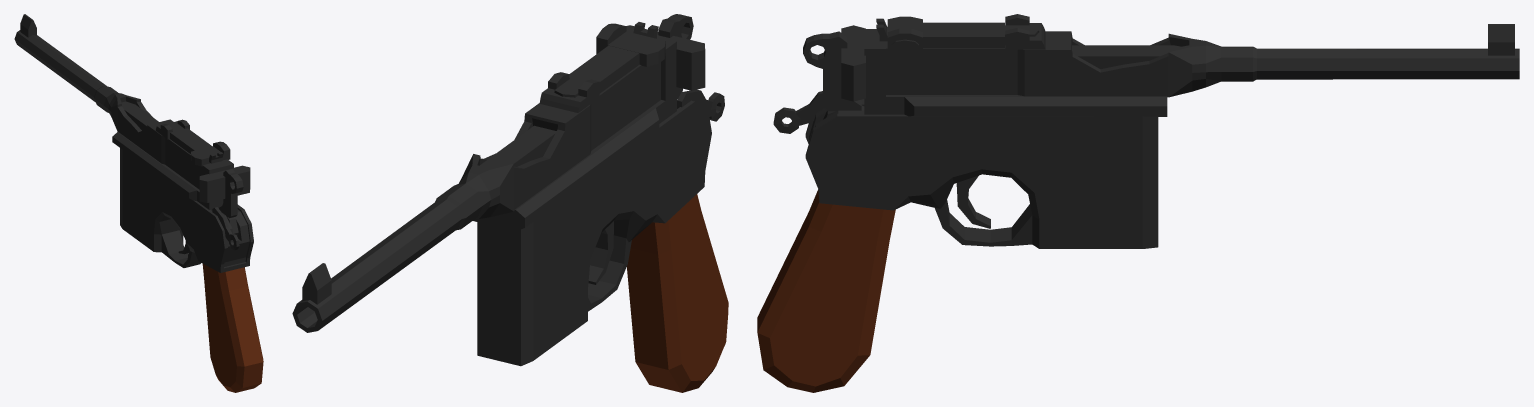
The model's file is gun.glb.
3 views of the same model, side by side, from view 1: azimuth 30°, elevation 25°; view 2: azimuth 150°, elevation 25°; view 3: azimuth 270°, elevation 25° (orthographic). The views are drawn at different scales.
Visible parts, largest first — view 1: mauser-c96-gun; view 2: mauser-c96-gun; view 3: mauser-c96-gun.
Part boxes in pixels (x1,y1,x2,y2): mauser-c96-gun: (14,14,263,392); mauser-c96-gun: (292,14,728,392); mauser-c96-gun: (757,14,1519,392).
Bounding box in the file's own units: 0.0358 × 0.1494 × 0.2832.
